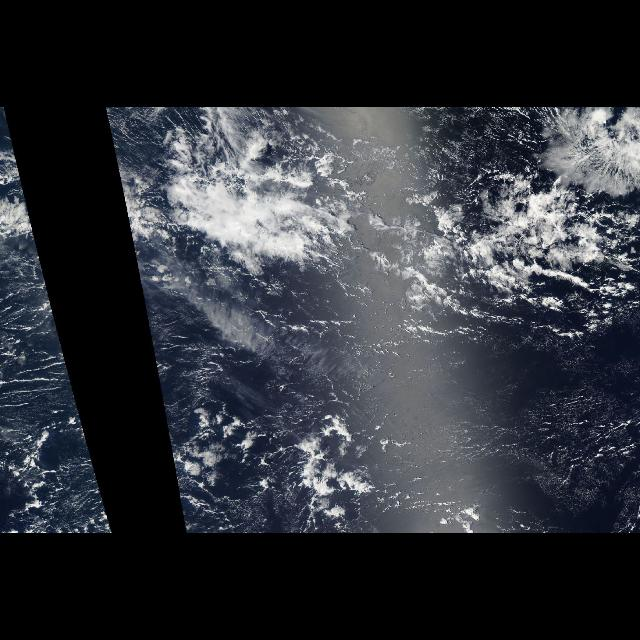Sugar: (367, 355, 639, 533)
